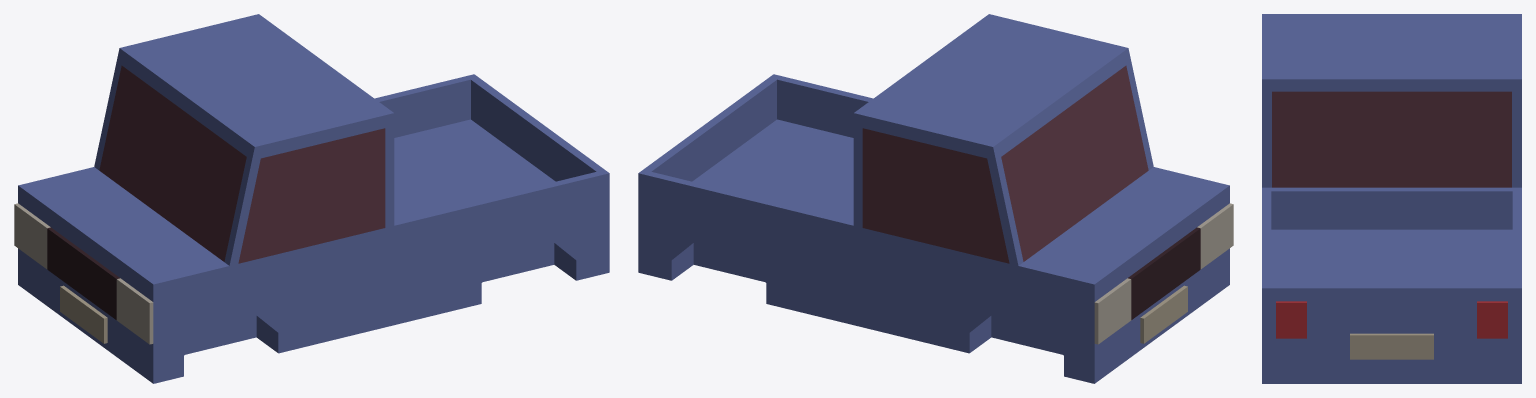
Rendered from Pickup_Blue.fbx.
3 views of the same model, side by side, from view 1: azimuth 30°, elevation 25°; view 2: azimuth 150°, elevation 25°; view 3: azimuth 270°, elevation 25° (orthographic). The views are drawn at different scales.
Visible parts, largest first — view 1: Pickup_Blue, Pickup_Lights; view 2: Pickup_Blue, Pickup_Lights; view 3: Pickup_Blue, Pickup_Lights.
Boxes of the visible parts, box(x1,y1,x2,y2) form: Pickup_Blue: box(18, 14, 609, 383); Pickup_Lights: box(14, 203, 153, 344); Pickup_Blue: box(638, 14, 1229, 383); Pickup_Lights: box(1094, 203, 1233, 344); Pickup_Blue: box(1262, 14, 1521, 383); Pickup_Lights: box(1276, 301, 1507, 338).
Bounding box in the file's own units: 3.66 × 1.6 × 1.85.
